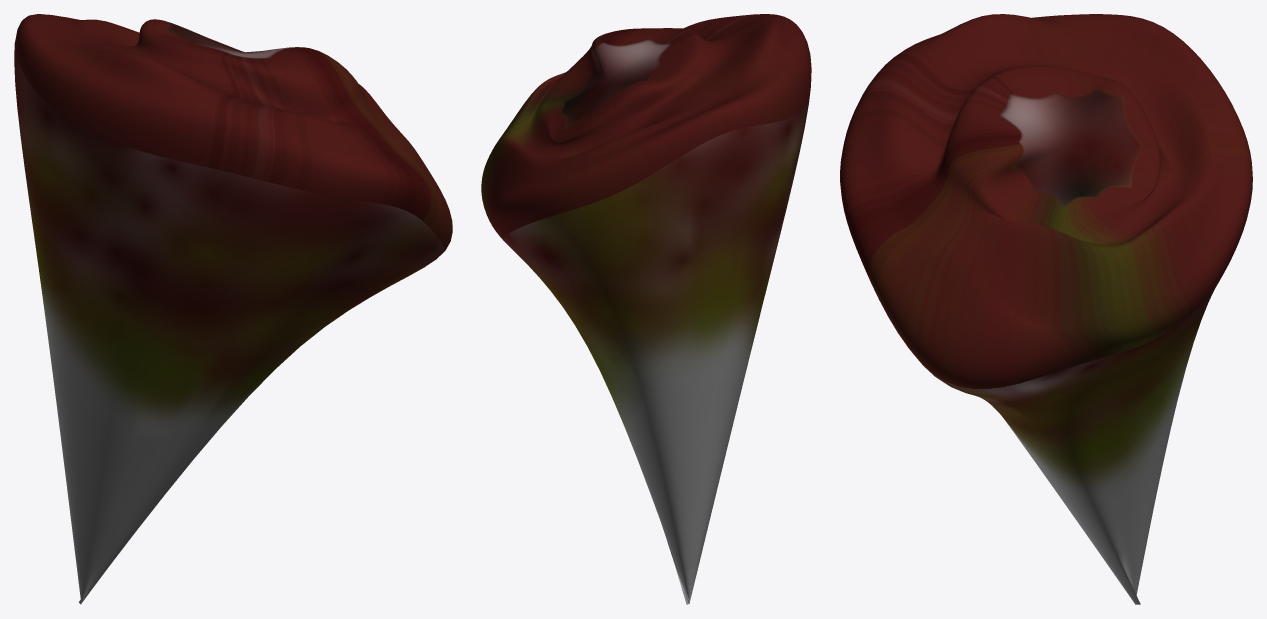
The model's file is 13280_autosave.glb.
3 renders of one model, left to right at view 1: azimuth 30°, elevation 25°; view 2: azimuth 150°, elevation 25°; view 3: azimuth 270°, elevation 25°, orthographic. The views are drawn at different scales.
Visible parts, largest first — view 1: Cono; view 2: Cono; view 3: Cono.
Boxes of the visible parts, bbox=[...] form: Cono: bbox=[14, 14, 452, 604]; Cono: bbox=[481, 14, 811, 604]; Cono: bbox=[840, 14, 1252, 604].
Bounding box in the file's own units: 1.54 × 2.53 × 1.63.
Materials: 1 (1 with a texture image).
